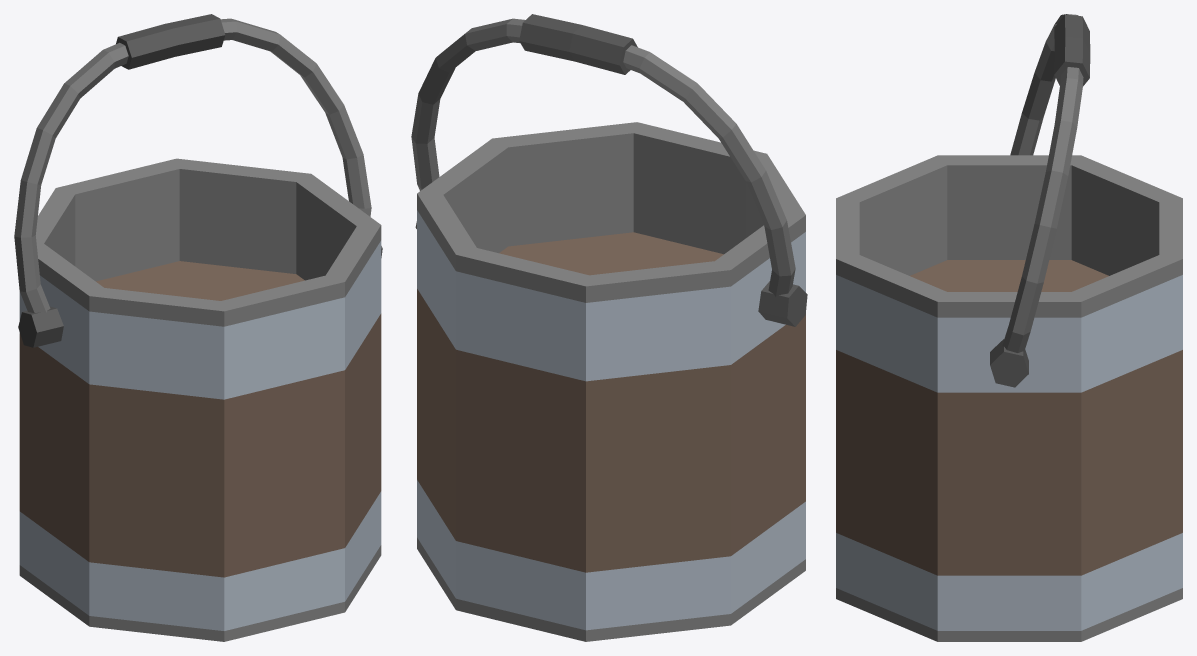
File: Dye_02.fbx
The picture shows the model from 3 angles, left to right: view 1: azimuth 30°, elevation 25°; view 2: azimuth 150°, elevation 25°; view 3: azimuth 270°, elevation 25°; orthographic projection. The views are drawn at different scales.
Visible parts, largest first — view 1: Dye_02; view 2: Dye_02; view 3: Dye_02.
Boxes of the visible parts, x1,y1,x2,y2 form: Dye_02: (14, 14, 382, 641); Dye_02: (411, 14, 807, 641); Dye_02: (836, 14, 1182, 641).
Size of the model in its own units: 26.62 by 37.81 by 22.33.
